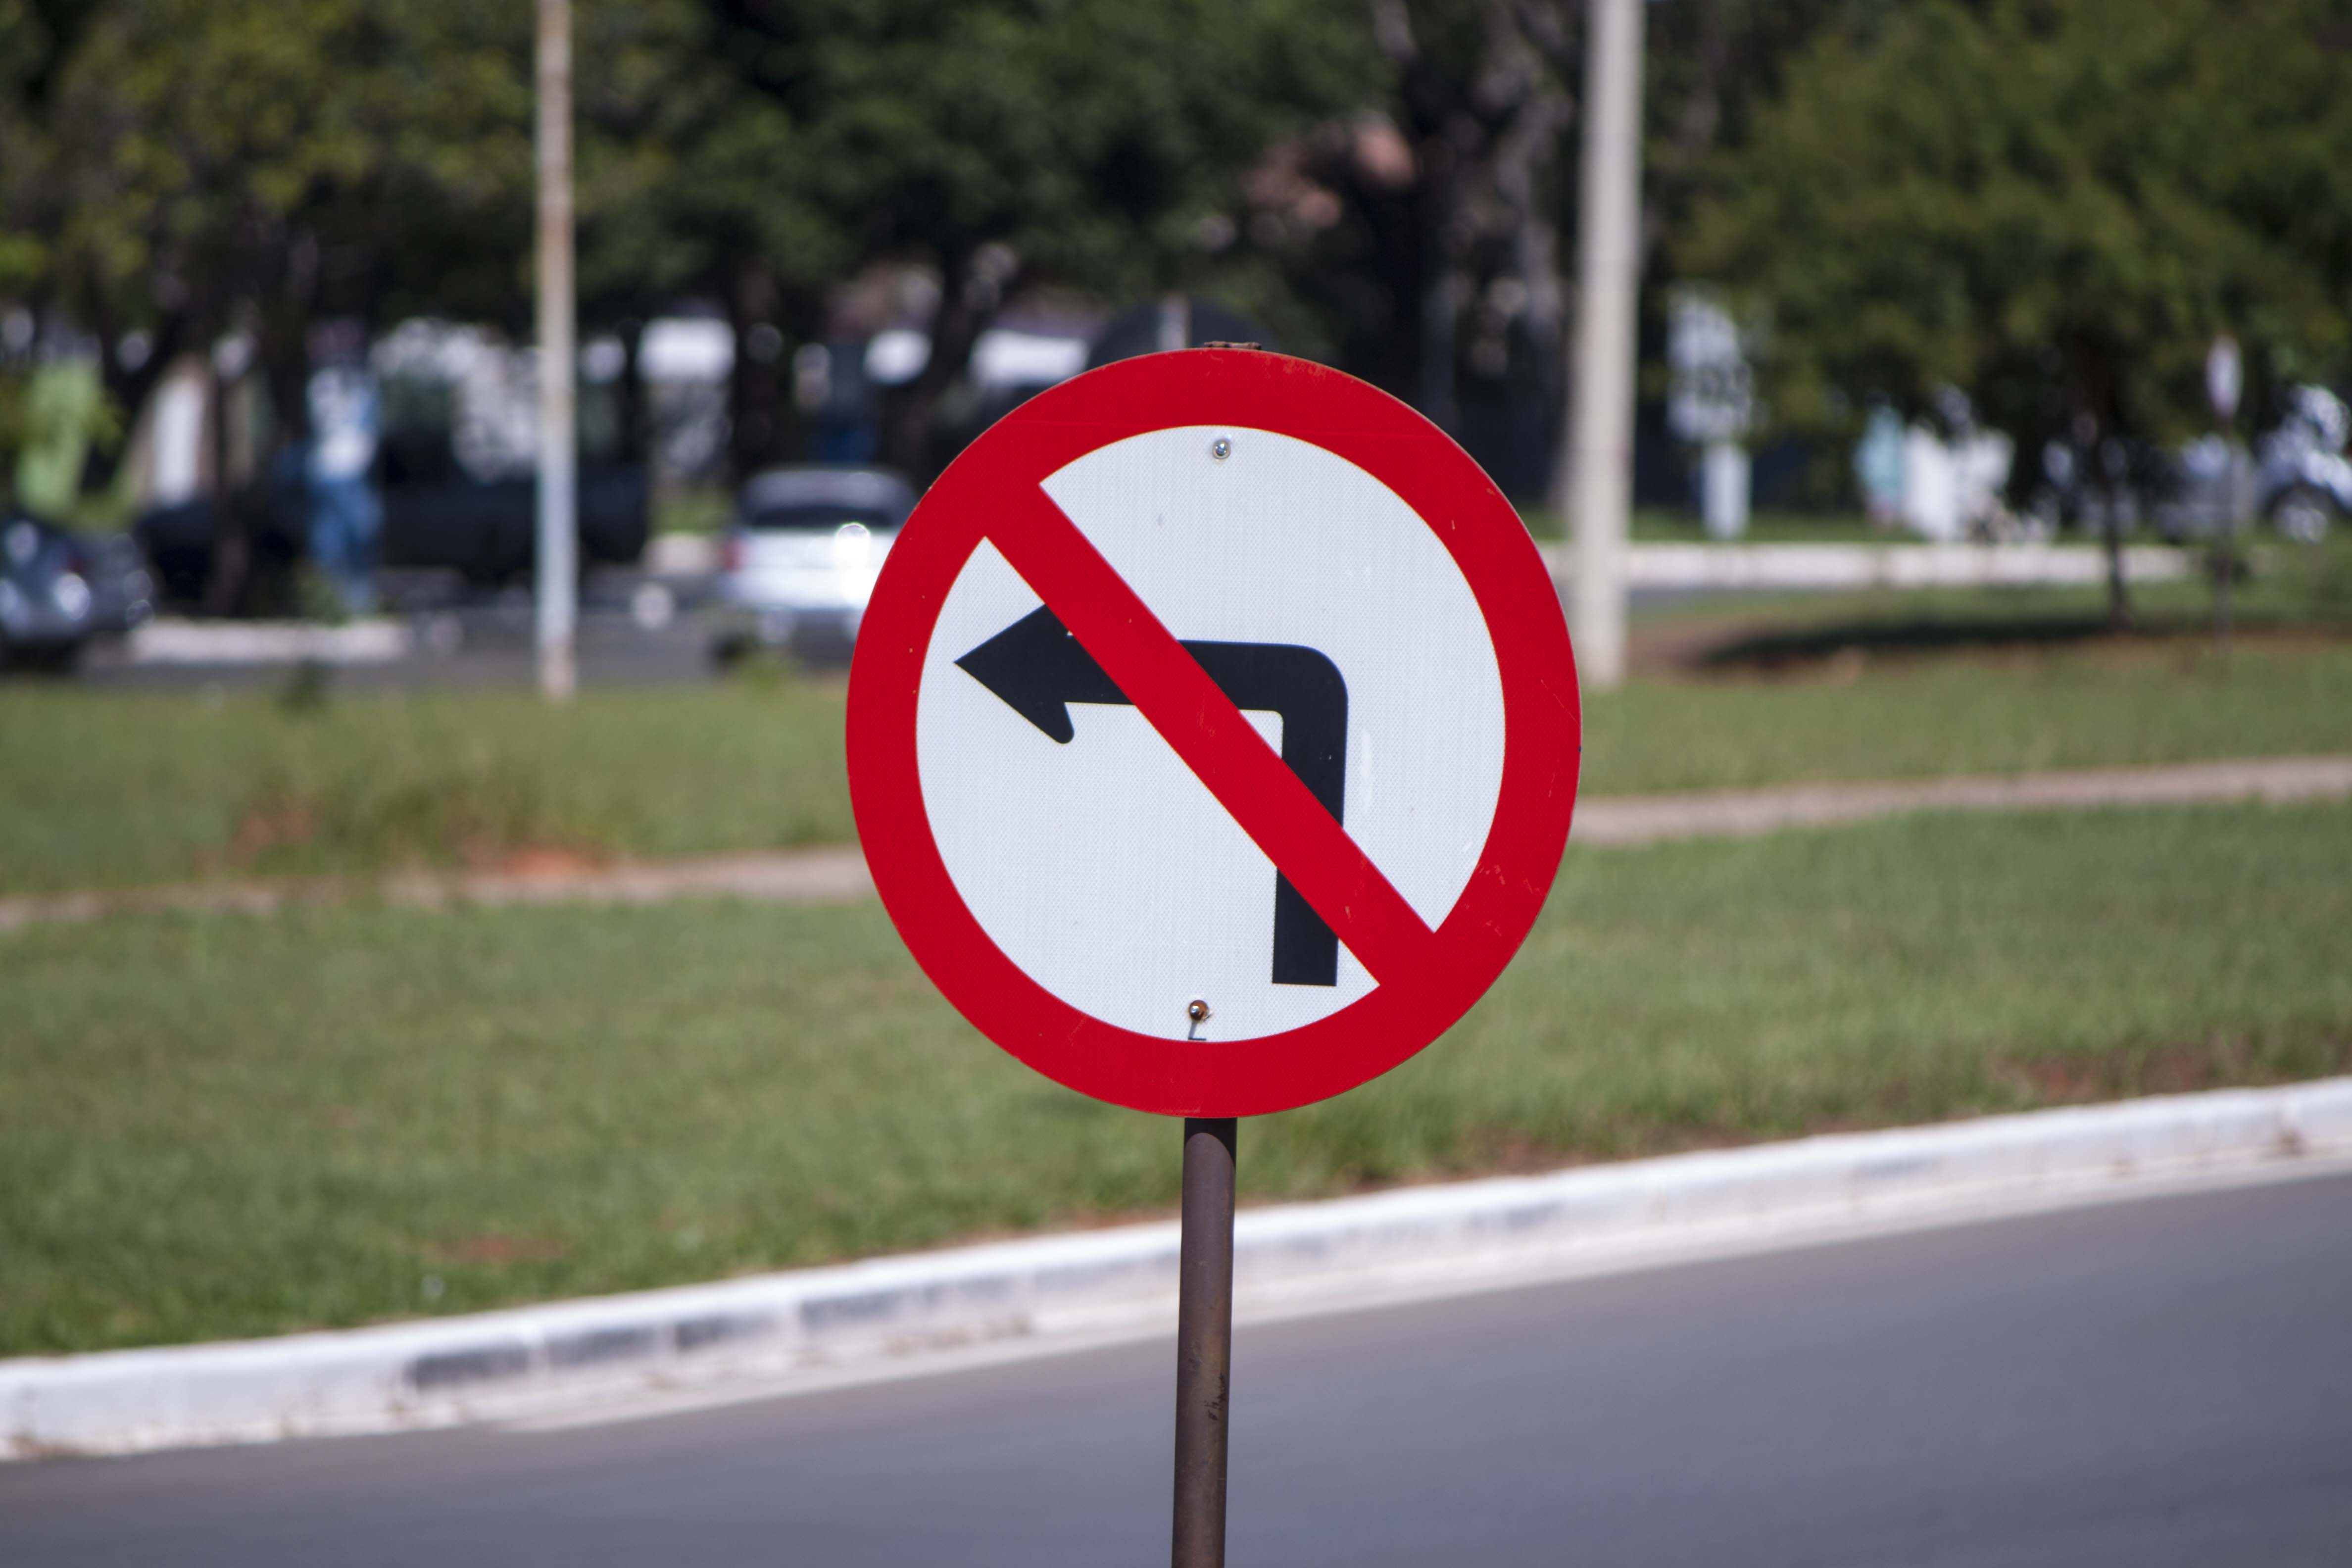sola_girilmez: (840, 353, 1582, 1109)
